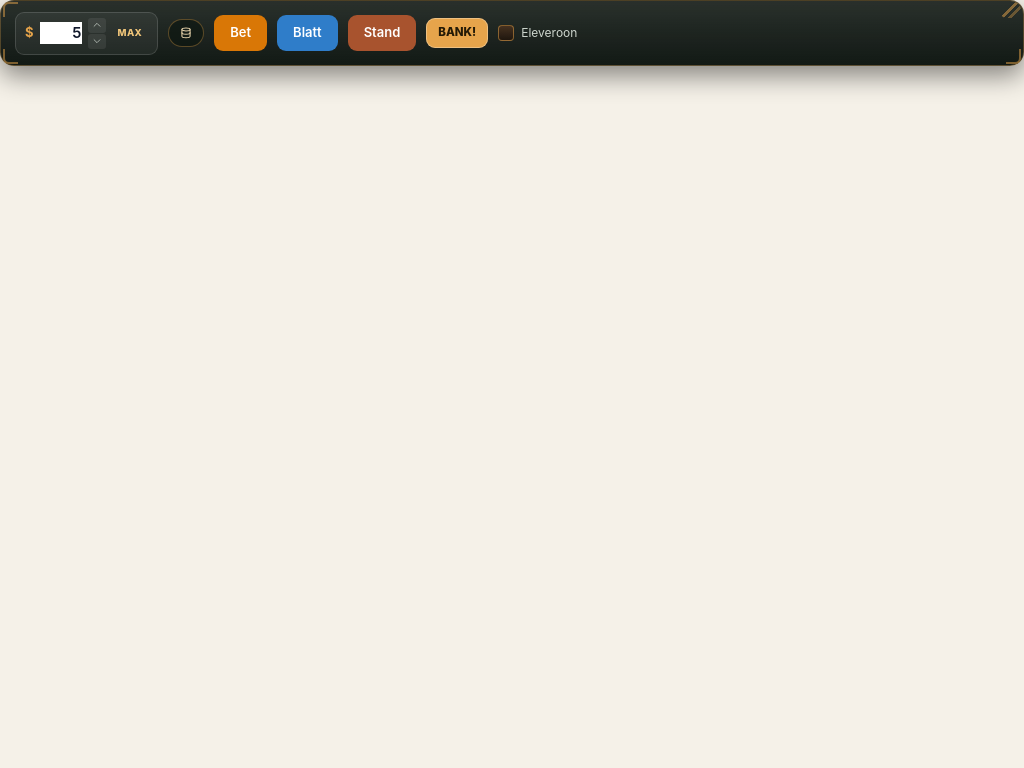
Test: PlayerDock never summons the phone keyboard › opens our own pad on a tap
This screenshot has width=1024, height=768.
Click the number field named "Bet amount": (60, 33) [40, 22, 82, 44]
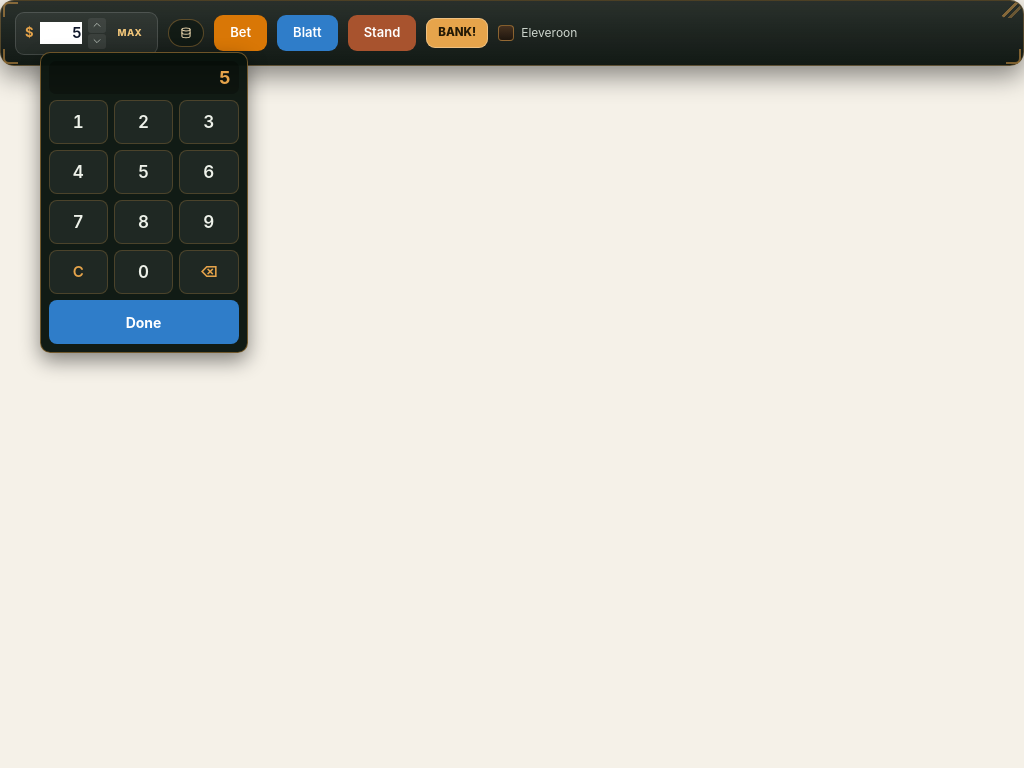
Check: the dialog named "bet amount keypad" is shown, box [40, 52, 248, 353]
